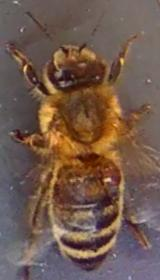varroa_mite: (97, 164, 128, 190)
